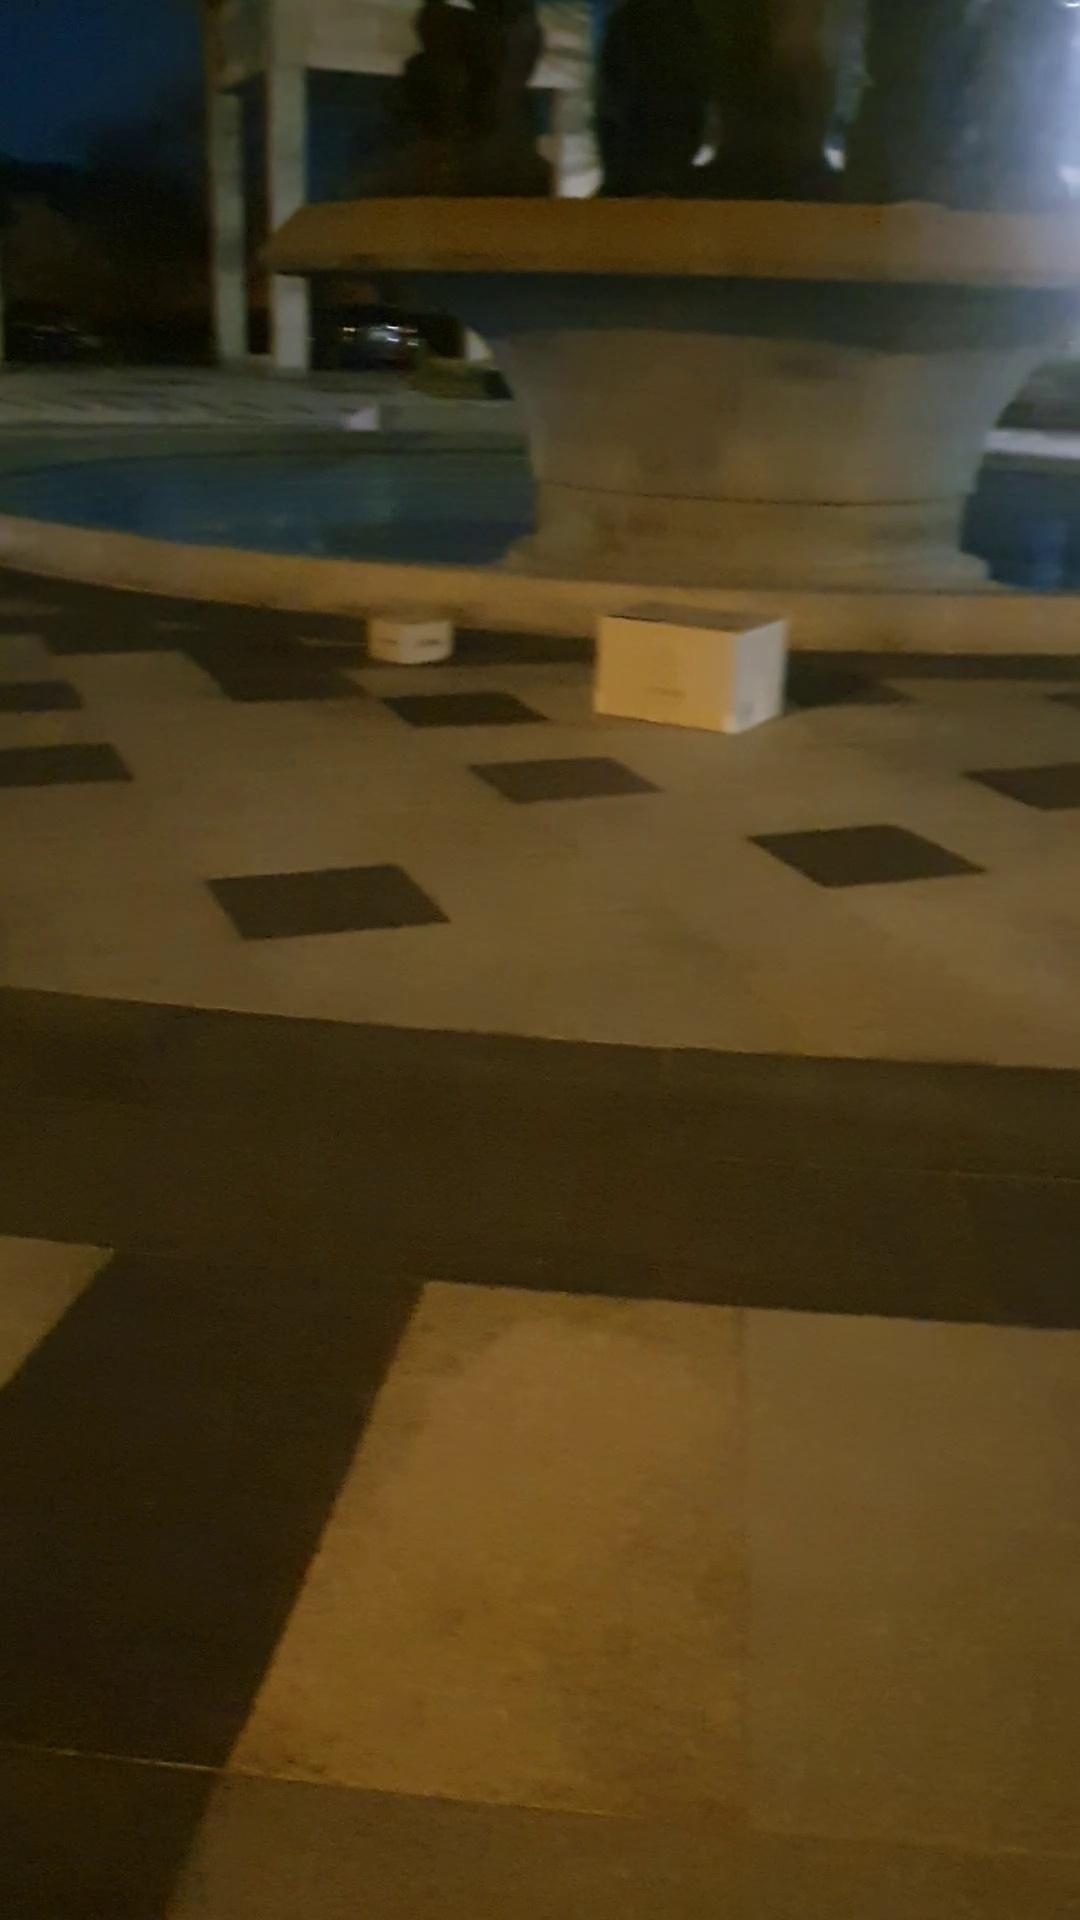Box: (571, 583, 802, 750), (367, 597, 455, 669)
